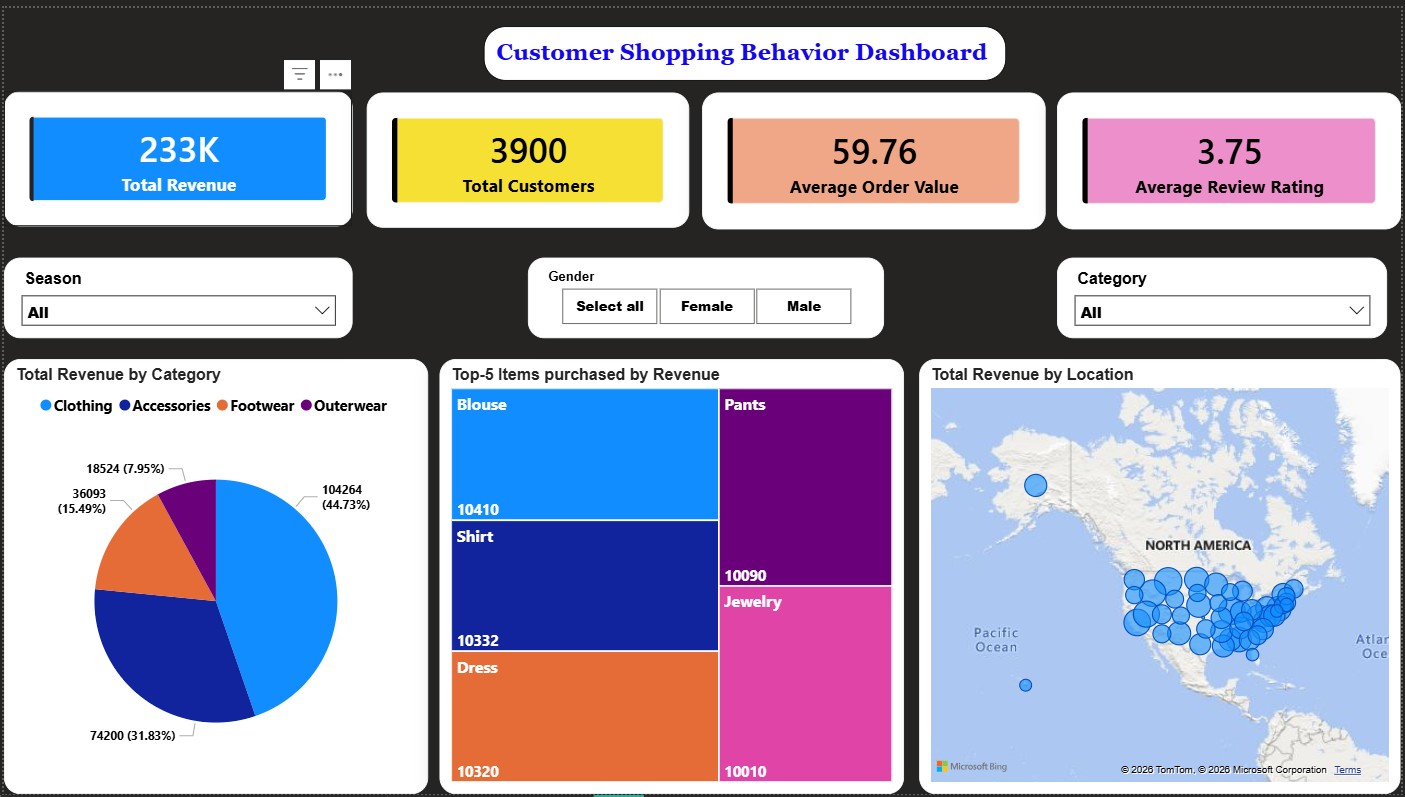

Layout of this report page (visuals, bound fields, positions):
{"tool":"powerbi","page":{"name":"Executive Overview","canvas":[1280,720],"ordinal":0},"visuals":[{"type":"cardVisual","fields":{"Data":["shopping_behavior_updated.Total Revenue"]},"box":[0,75.9,319.3,124.1],"z":0},{"type":"cardVisual","fields":{"Data":["shopping_behavior_updated.Total Customers"]},"box":[332.5,77.1,295.2,124.1],"z":1000},{"type":"cardVisual","fields":{"Data":["shopping_behavior_updated.Average Order Value"]},"box":[639.8,77.1,314.5,125.3],"z":2000},{"type":"cardVisual","fields":{"Data":["shopping_behavior_updated.Average Review Rating"]},"box":[963.9,77.1,315.7,125.3],"z":3000},{"type":"pieChart","fields":{"Category":["shopping_behavior_updated.Category"],"Y":["shopping_behavior_updated.Total Revenue"]},"box":[0,321.4,388.6,398.6],"z":4000},{"type":"treemap","title":"Top-5 Items purchased by Revenue ","fields":{"Group":["shopping_behavior_updated.Item Purchased"],"Values":["shopping_behavior_updated.Total Revenue"]},"box":[398.6,321.4,425.7,398.6],"z":5000},{"type":"map","fields":{"Category":["shopping_behavior_updated.Location"],"Size":["shopping_behavior_updated.Total Revenue"]},"box":[838.6,321.7,441,398.8],"z":6000},{"type":"slicer","fields":{"Values":["shopping_behavior_updated.Season"]},"box":[0,228.8,319.5,73.6],"z":7000},{"type":"slicer","fields":{"Values":["shopping_behavior_updated.Gender"]},"box":[479.9,228.8,326.1,73.6],"z":8000},{"type":"slicer","fields":{"Values":["shopping_behavior_updated.Category"]},"box":[963.8,228.8,302.4,73.6],"z":9000},{"type":"textbox","box":[439.2,17.1,478.6,50],"z":10000}]}

Visuals, with their boxes in screenshot pixels (x1, y1, x2, y2), scaled from the page's 1280x720 canvas onto the 1405x797 screenshot:
cardVisual - shopping_behavior_updated.Total Revenue: 0, 84, 350, 221
cardVisual - shopping_behavior_updated.Total Customers: 365, 85, 689, 223
cardVisual - shopping_behavior_updated.Average Order Value: 702, 85, 1047, 224
cardVisual - shopping_behavior_updated.Average Review Rating: 1058, 85, 1404, 224
pieChart - shopping_behavior_updated.Category x shopping_behavior_updated.Total Revenue: 0, 356, 427, 796
"Top-5 Items purchased by Revenue " treemap: 438, 356, 905, 796
map - shopping_behavior_updated.Location x shopping_behavior_updated.Total Revenue: 920, 356, 1404, 796
slicer - shopping_behavior_updated.Season: 0, 253, 351, 335
slicer - shopping_behavior_updated.Gender: 527, 253, 885, 335
slicer - shopping_behavior_updated.Category: 1058, 253, 1390, 335
textbox: 482, 19, 1007, 74
